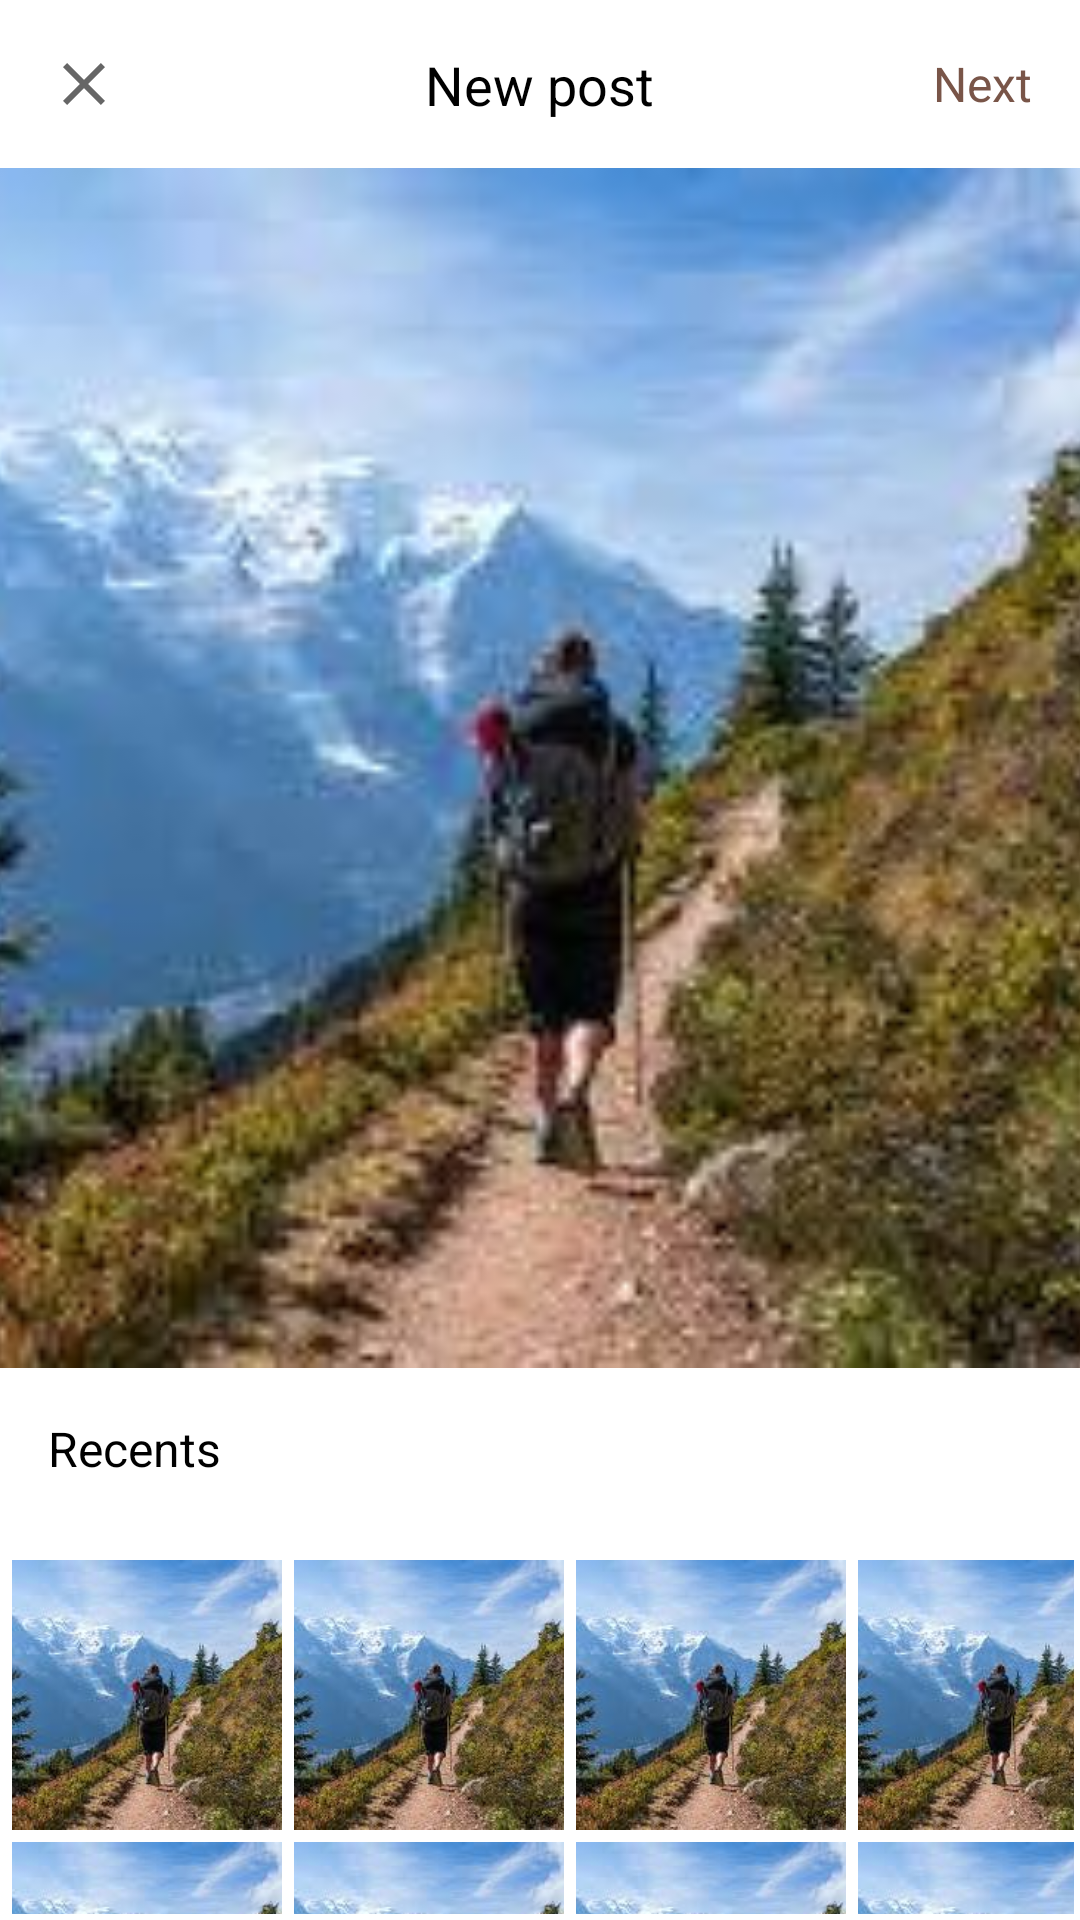

Screen size 1080*1920. Icon name, then its center in pixels as (x=x, y=y):
close: (x=84, y=84)
